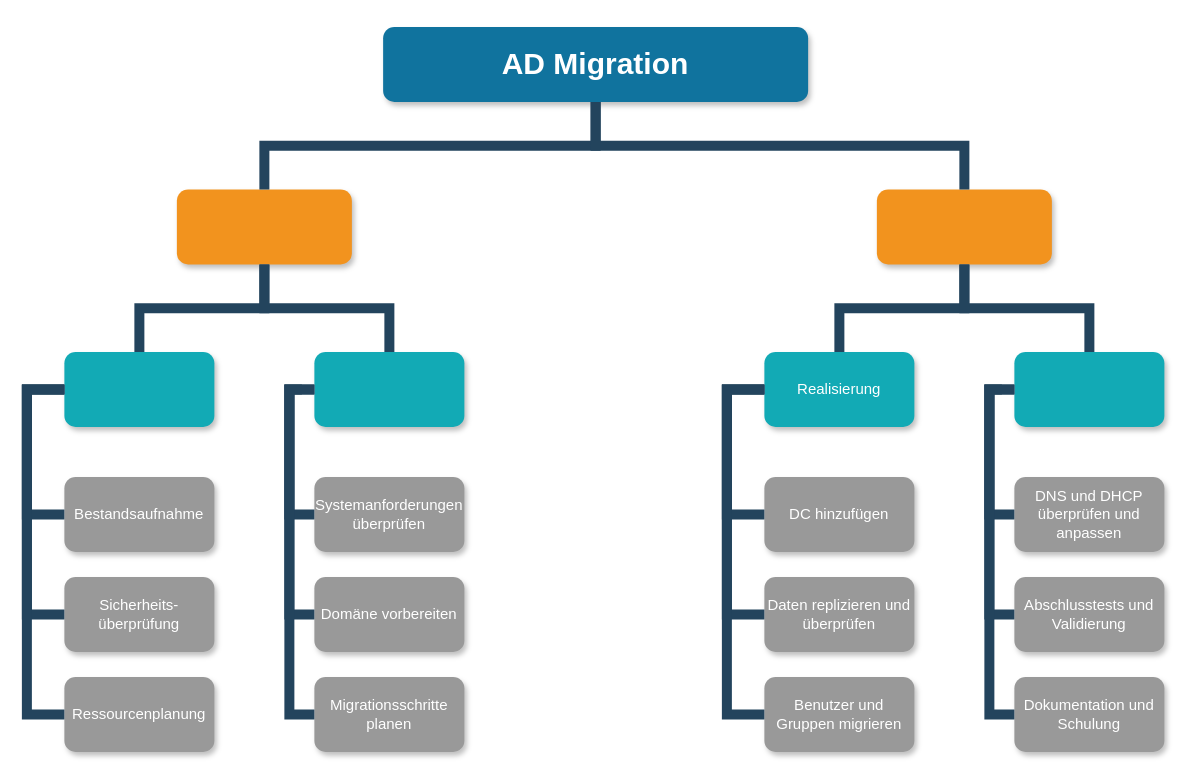
The diagram is 1193 pixels wide and 781 high, and some of its shapes have lost their labels. The centre of each missing label's shape, as x and y in pixels:
Einführung: [1090,390]
Initialisierung: [140,390]
Migration: [965,228]
Planung: [390,390]
Vorbereitung: [265,228]
